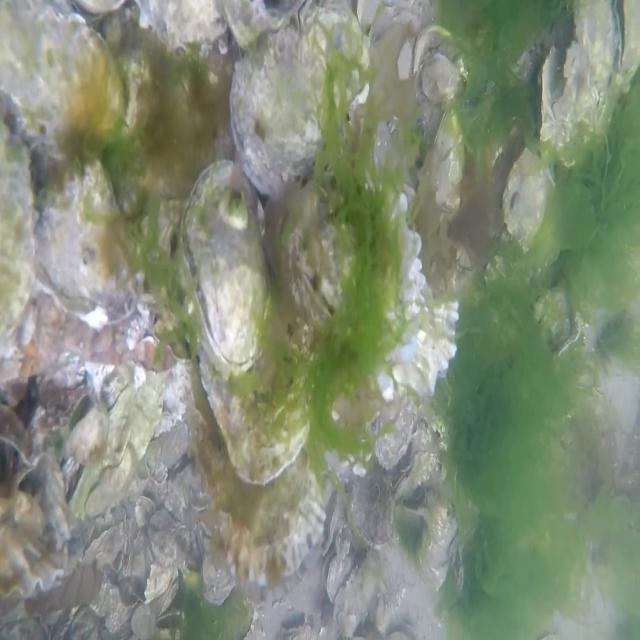Oyster-Closed: (40, 160, 164, 332), (185, 162, 276, 350), (3, 1, 116, 138), (233, 38, 326, 192), (6, 123, 39, 384), (502, 152, 550, 246)
Oyster-Indeterminate: (188, 364, 308, 479), (194, 473, 318, 578), (284, 180, 364, 341), (0, 418, 61, 589)
